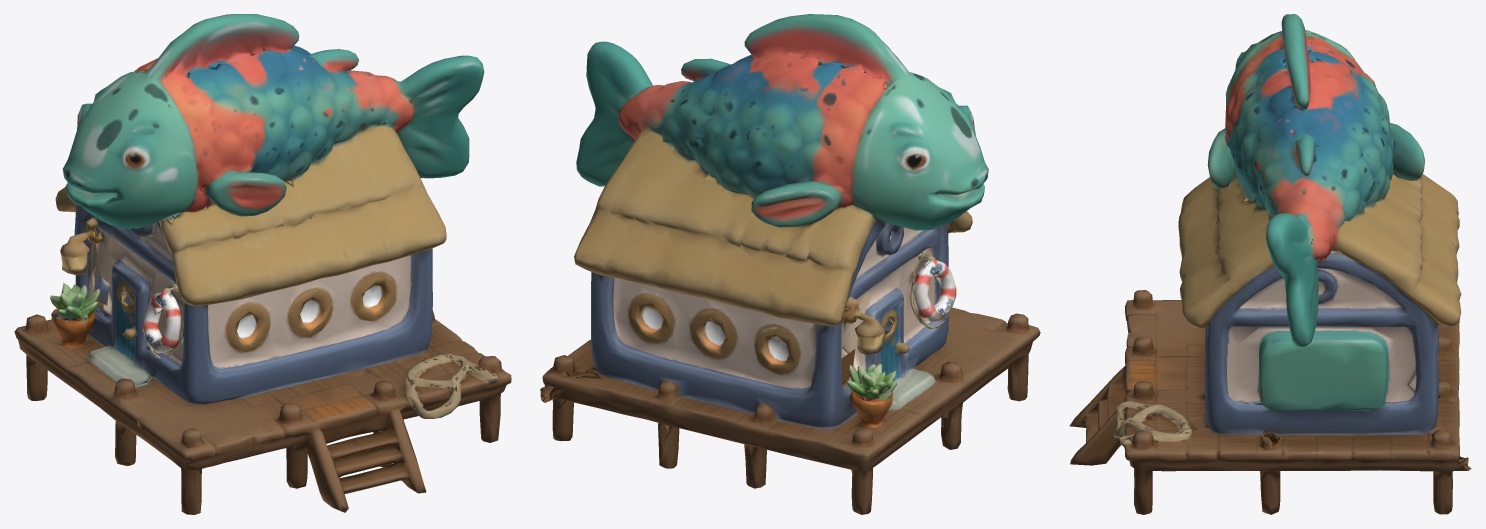
The model's file is fish_house.glb.
3 renders of one model, left to right at view 1: azimuth 30°, elevation 25°; view 2: azimuth 150°, elevation 25°; view 3: azimuth 270°, elevation 25°, orthographic. The views are drawn at different scales.
Visible parts, largest first — view 1: world; view 2: world; view 3: world.
Part boxes in pixels (x1,y1,x2,y2): world: [14, 14, 511, 514]; world: [540, 14, 1040, 514]; world: [1069, 14, 1471, 514].
Size of the model in its own units: 0.9998 by 0.9828 by 0.8971.
Materials: 1 (1 with a texture image).
